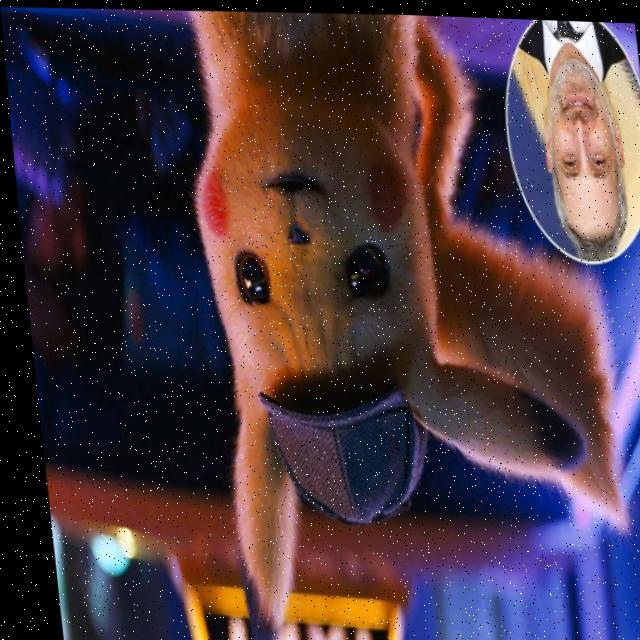Pikachu: (41, 1, 545, 640)
